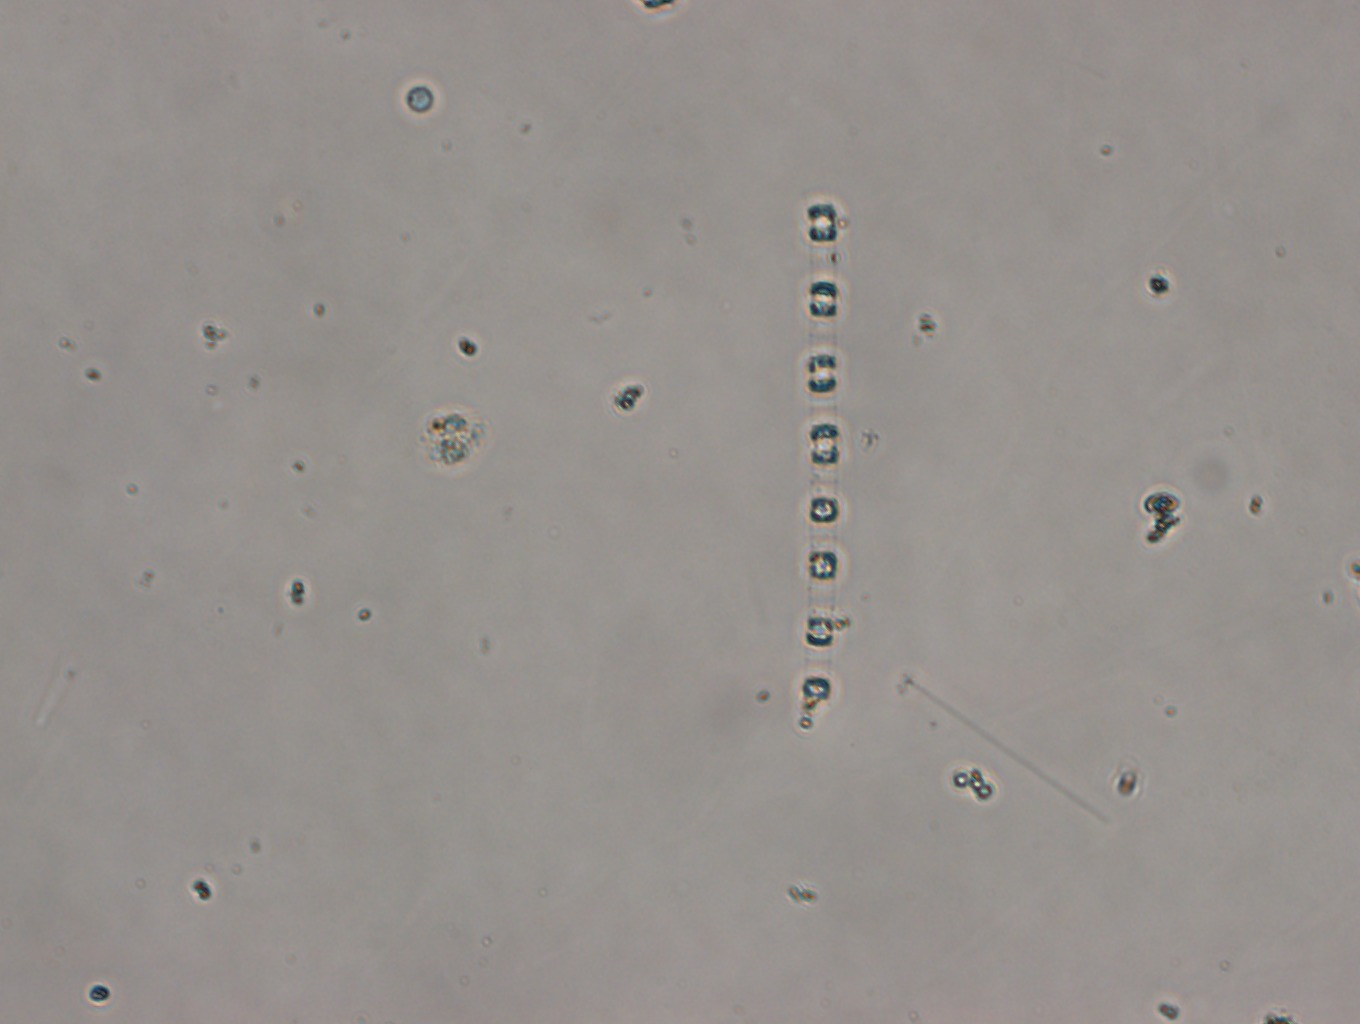skeletonema: (801, 199, 847, 717)
